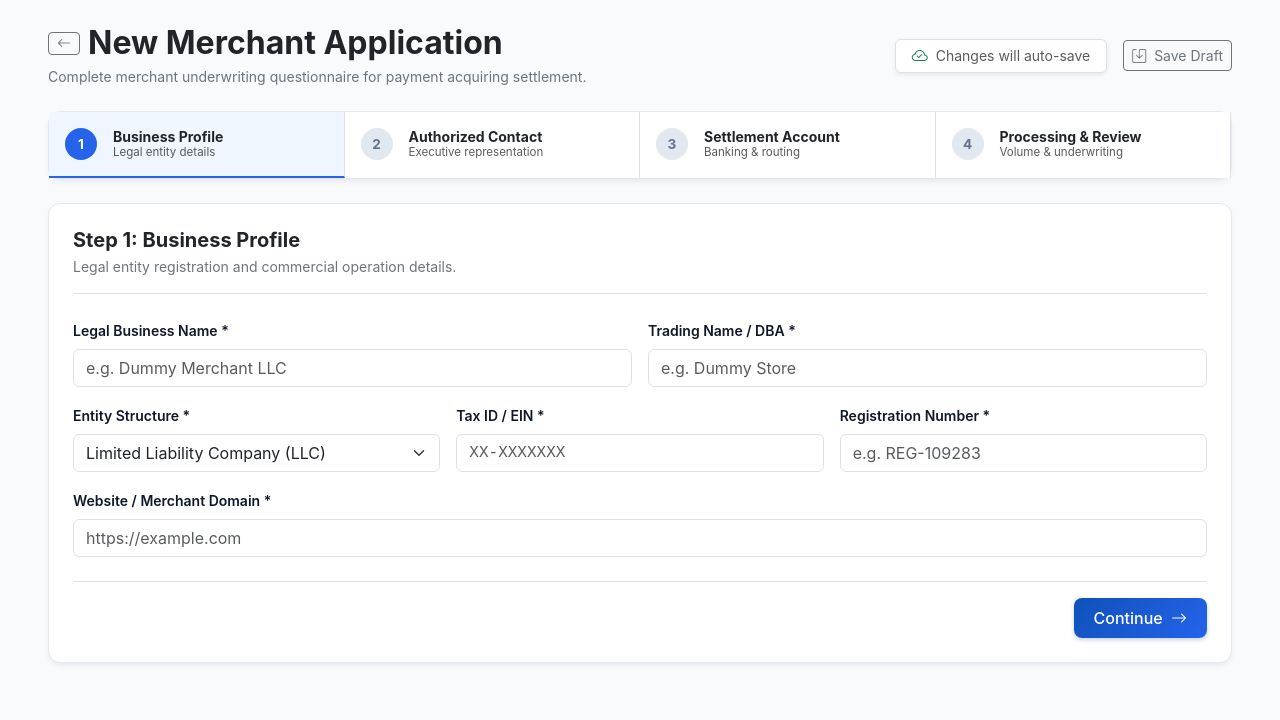
Scenario: MerchantWizardComponent › should auto-format taxId input via directive
In the field named "taxId": coordinates (640, 453) [456,434,824,472], type "123456789"
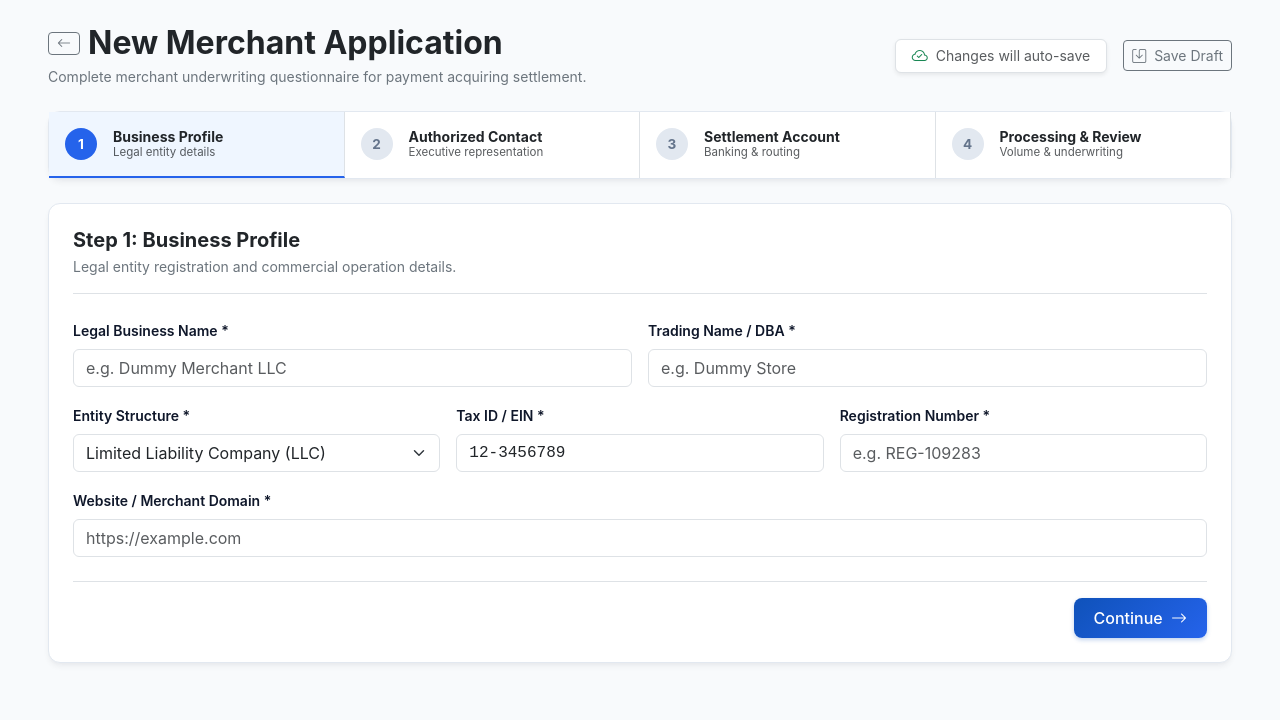
Expected: the field named "taxId" holds "12-3456789", [456,434,824,472]
